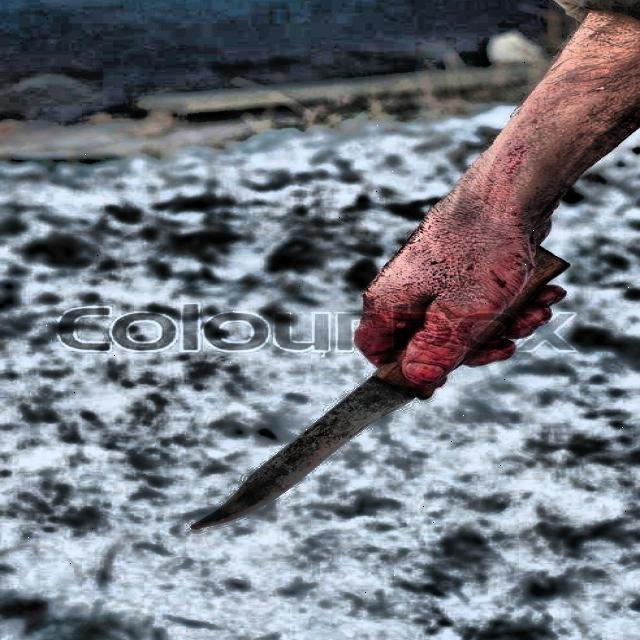knife: (197, 243, 570, 529)
